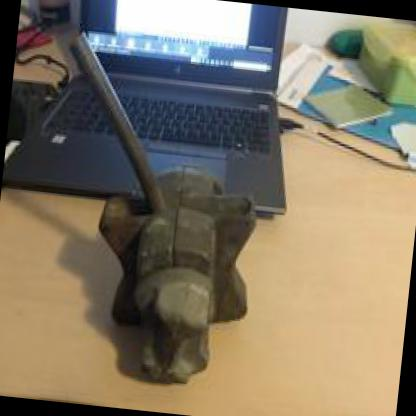Twistlock: (15, 18, 280, 392)
